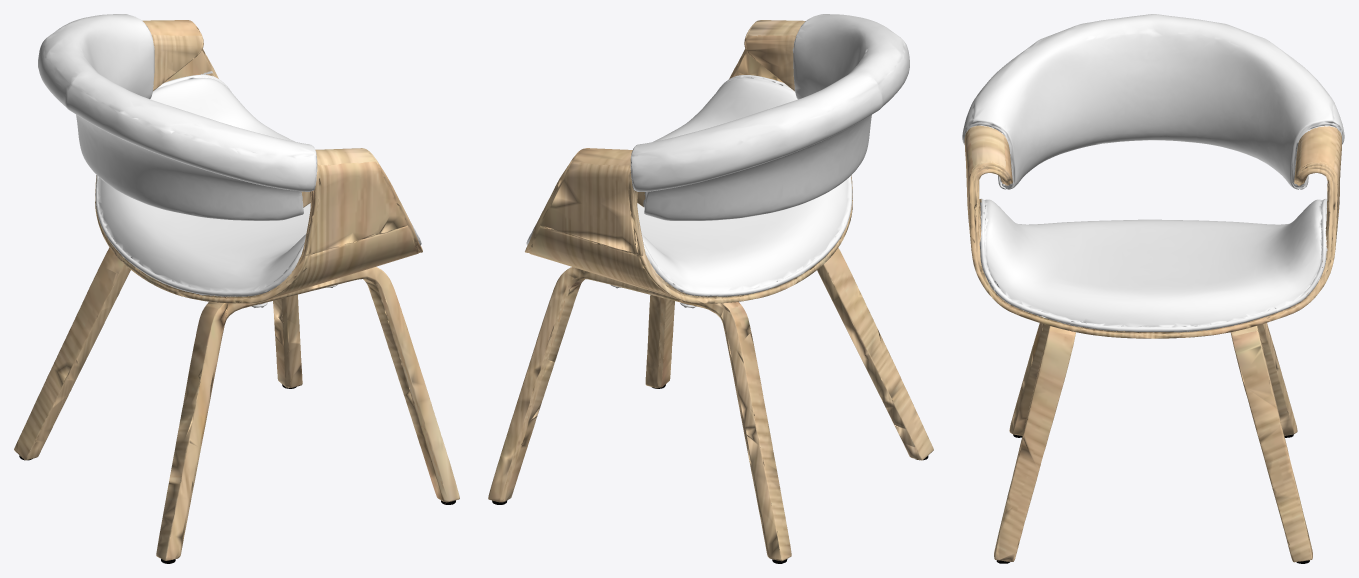
File: ND-0603__Binsa2_6.glb
3 views of the same model, side by side, from view 1: azimuth 30°, elevation 25°; view 2: azimuth 150°, elevation 25°; view 3: azimuth 270°, elevation 25° (orthographic). The views are drawn at different scales.
Visible parts, largest first — view 1: tripo_node_ed3c0e22-6fbc-44c6-a50c-144b1afcc120, tripo_node_ed3c0e22-6fbc-44c6-a50c-144b1afcc120.001, tripo_node_ed3c0e22-6fbc-44c6-a50c-144b1afcc120.004; view 2: tripo_node_ed3c0e22-6fbc-44c6-a50c-144b1afcc120, tripo_node_ed3c0e22-6fbc-44c6-a50c-144b1afcc120.001, tripo_node_ed3c0e22-6fbc-44c6-a50c-144b1afcc120.004; view 3: tripo_node_ed3c0e22-6fbc-44c6-a50c-144b1afcc120.001, tripo_node_ed3c0e22-6fbc-44c6-a50c-144b1afcc120.004, tripo_node_ed3c0e22-6fbc-44c6-a50c-144b1afcc120.
Part boxes in pixels (left/top/right/bottom): tripo_node_ed3c0e22-6fbc-44c6-a50c-144b1afcc120: left=14, top=20, right=459, bottom=560; tripo_node_ed3c0e22-6fbc-44c6-a50c-144b1afcc120.001: left=38, top=14, right=317, bottom=220; tripo_node_ed3c0e22-6fbc-44c6-a50c-144b1afcc120.004: left=95, top=71, right=421, bottom=296; tripo_node_ed3c0e22-6fbc-44c6-a50c-144b1afcc120: left=488, top=20, right=933, bottom=561; tripo_node_ed3c0e22-6fbc-44c6-a50c-144b1afcc120.001: left=630, top=14, right=909, bottom=220; tripo_node_ed3c0e22-6fbc-44c6-a50c-144b1afcc120.004: left=526, top=75, right=852, bottom=296; tripo_node_ed3c0e22-6fbc-44c6-a50c-144b1afcc120.001: left=962, top=14, right=1344, bottom=189; tripo_node_ed3c0e22-6fbc-44c6-a50c-144b1afcc120.004: left=979, top=198, right=1327, bottom=332; tripo_node_ed3c0e22-6fbc-44c6-a50c-144b1afcc120: left=964, top=125, right=1341, bottom=562.
Bounding box in the file's own units: 0.7224 × 0.9777 × 0.8156.
8 materials, 1 textured.
